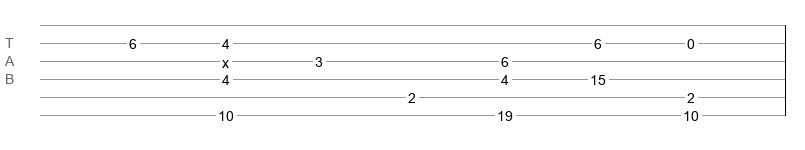0: (687, 36, 695, 46)
10: (218, 108, 234, 118), (683, 108, 699, 118)
15: (590, 72, 606, 82)
19: (497, 108, 513, 118)
2: (408, 90, 416, 100), (687, 90, 695, 100)
3: (315, 54, 323, 64)
4: (222, 72, 230, 82), (222, 36, 230, 46), (501, 72, 509, 82)
6: (129, 36, 137, 46), (501, 54, 509, 64), (594, 36, 602, 46)
x: (222, 55, 229, 63)
